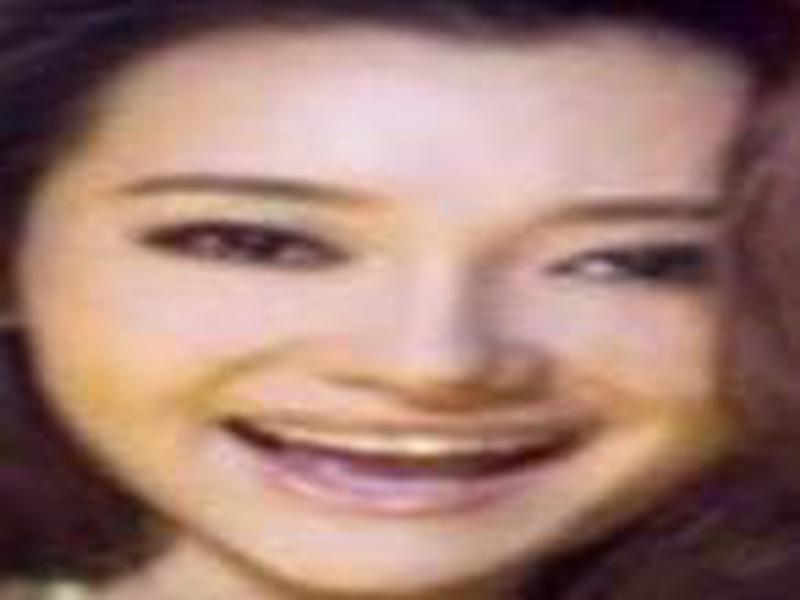without_mask: (29, 23, 774, 599)
